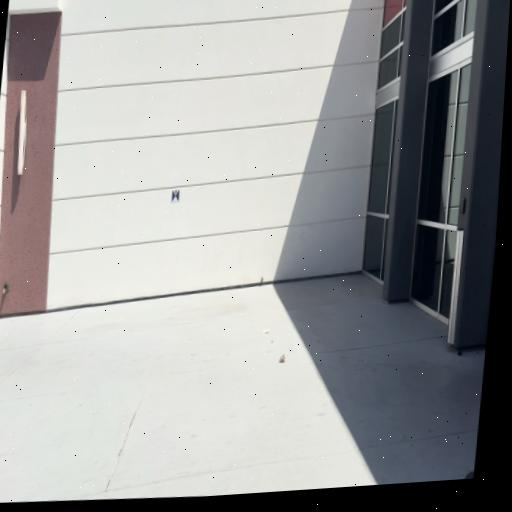target0: (171, 187, 179, 203)
